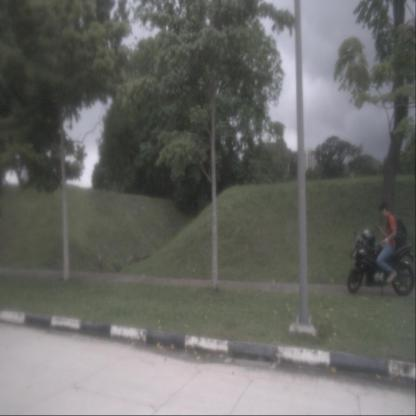vehicle-motorcycle: (347, 199, 415, 297)
